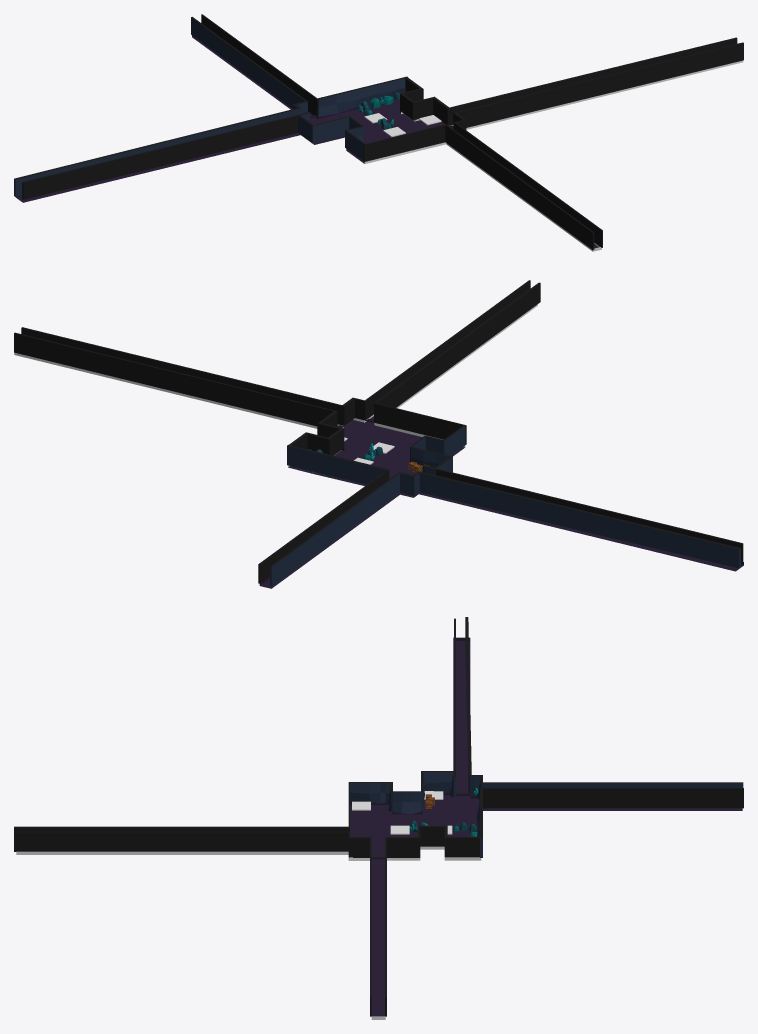
File: sala7DET.fbx
3 renders of one model, top to bottom at view 1: azimuth 30°, elevation 25°; view 2: azimuth 150°, elevation 25°; view 3: azimuth 270°, elevation 25°, orthographic. The views are drawn at different scales.
Visible parts, largest first — view 1: paredes_der_abajo7, paredes_izq_arriba7, suelo7, conjunto_trampas; view 2: paredes_der_abajo7, paredes_izq_arriba7, suelo7; view 3: paredes_der_abajo7, suelo7, paredes_izq_arriba7.
Boxes of the visible parts, x1,y1,x2,y2 form: paredes_der_abajo7: (22, 14, 743, 249); paredes_izq_arriba7: (14, 17, 407, 196); suelo7: (15, 35, 743, 251); conjunto_trampas: (364, 113, 441, 137); paredes_der_abajo7: (14, 280, 743, 583); paredes_izq_arriba7: (270, 425, 740, 586); suelo7: (14, 304, 743, 588); paredes_der_abajo7: (14, 618, 743, 1016); suelo7: (16, 637, 742, 1019); paredes_izq_arriba7: (348, 617, 743, 857).
Size of the model in its own units: 28555 by 794 by 23180.
